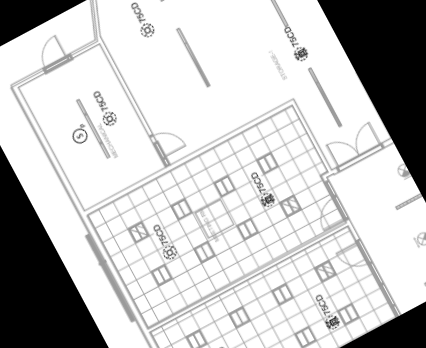door: (332, 235, 375, 279), (309, 195, 350, 236), (30, 32, 70, 72), (150, 122, 189, 162)
double door: (321, 117, 385, 171)
